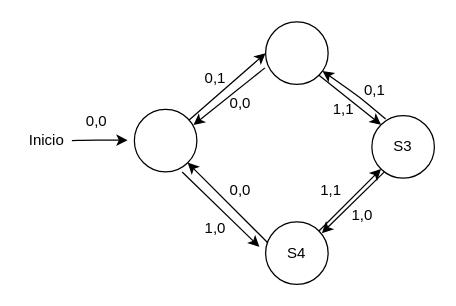
The diagram is 456 pixels wide and 306 high, and some of its shapes have lost their labels. Each missing label, with the centre of its shape:
S1: (x=165, y=140)
S2: (x=296, y=52)
